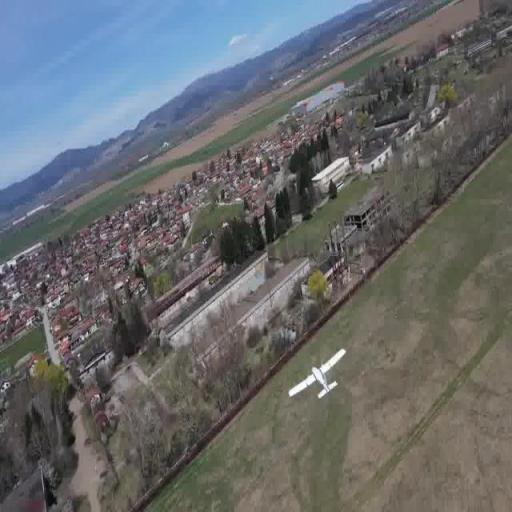uav: (286, 346, 348, 406)
